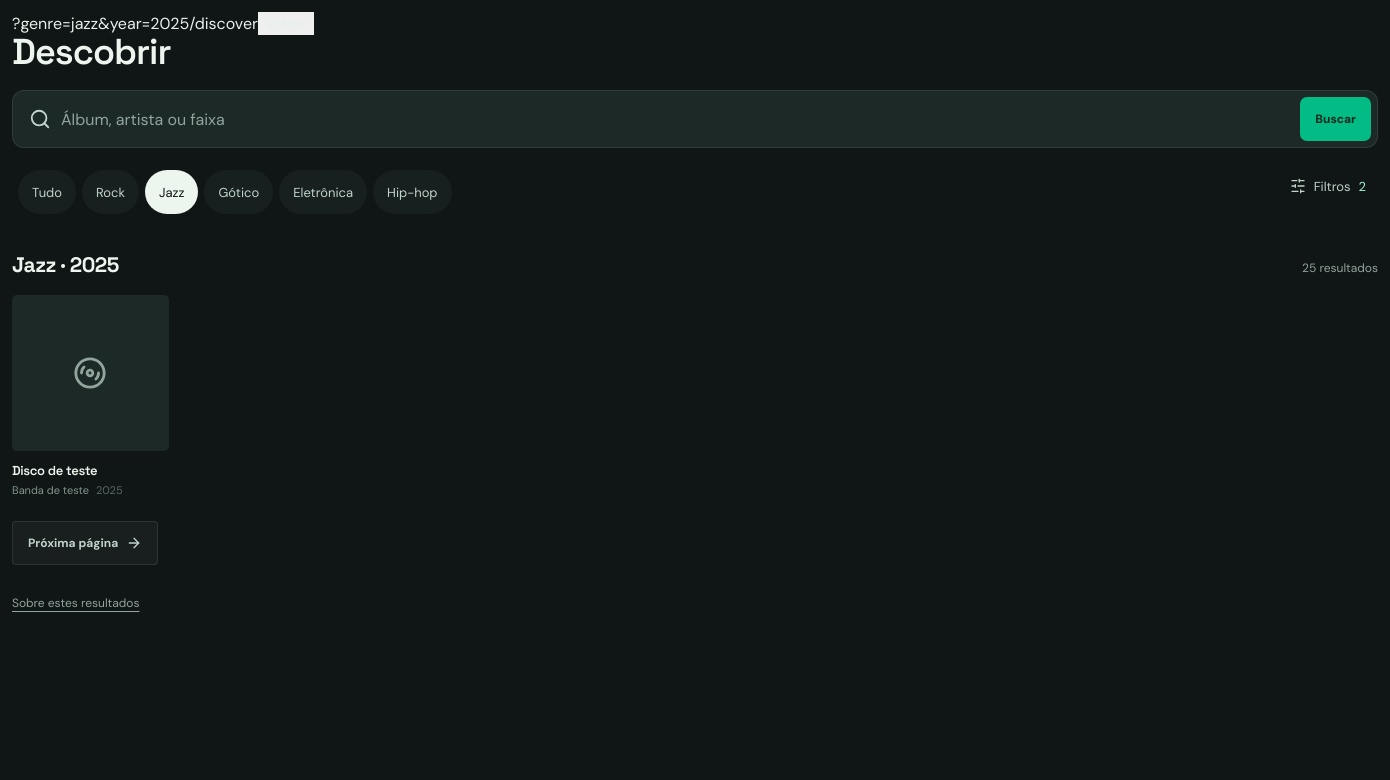
Test: DiscoverPage › searches and switches result types without leaving Discover, then returns to exploration
Expected: the heading "Disco de teste" is shown, 12,462 -> 97,479
In the search field: (676, 119) 59,97 -> 1292,141, type "the cure"
Then press Enter
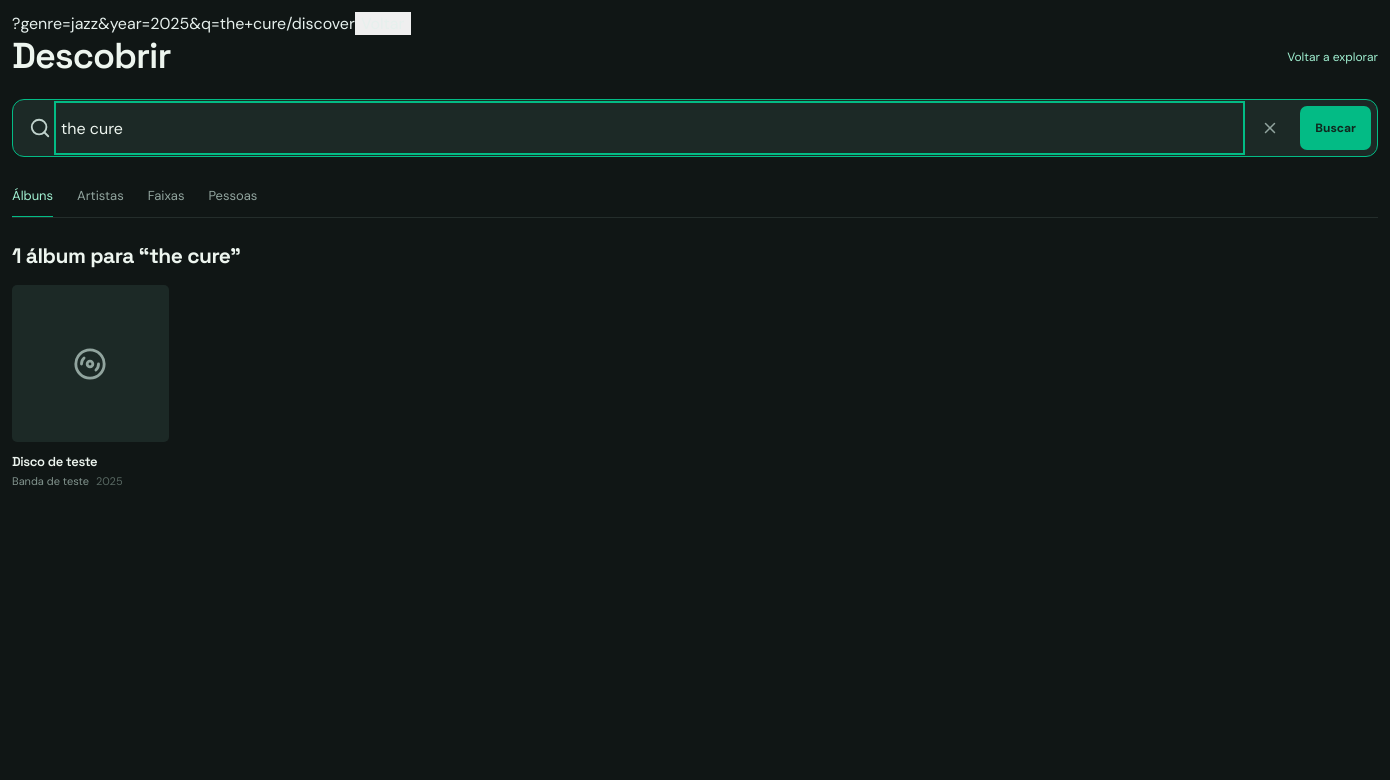
Expected: the text named "Endereço" shows "q=the+cure", 12,13 -> 286,34
Click the tab "Artistas": (100, 195) 77,173 -> 124,217
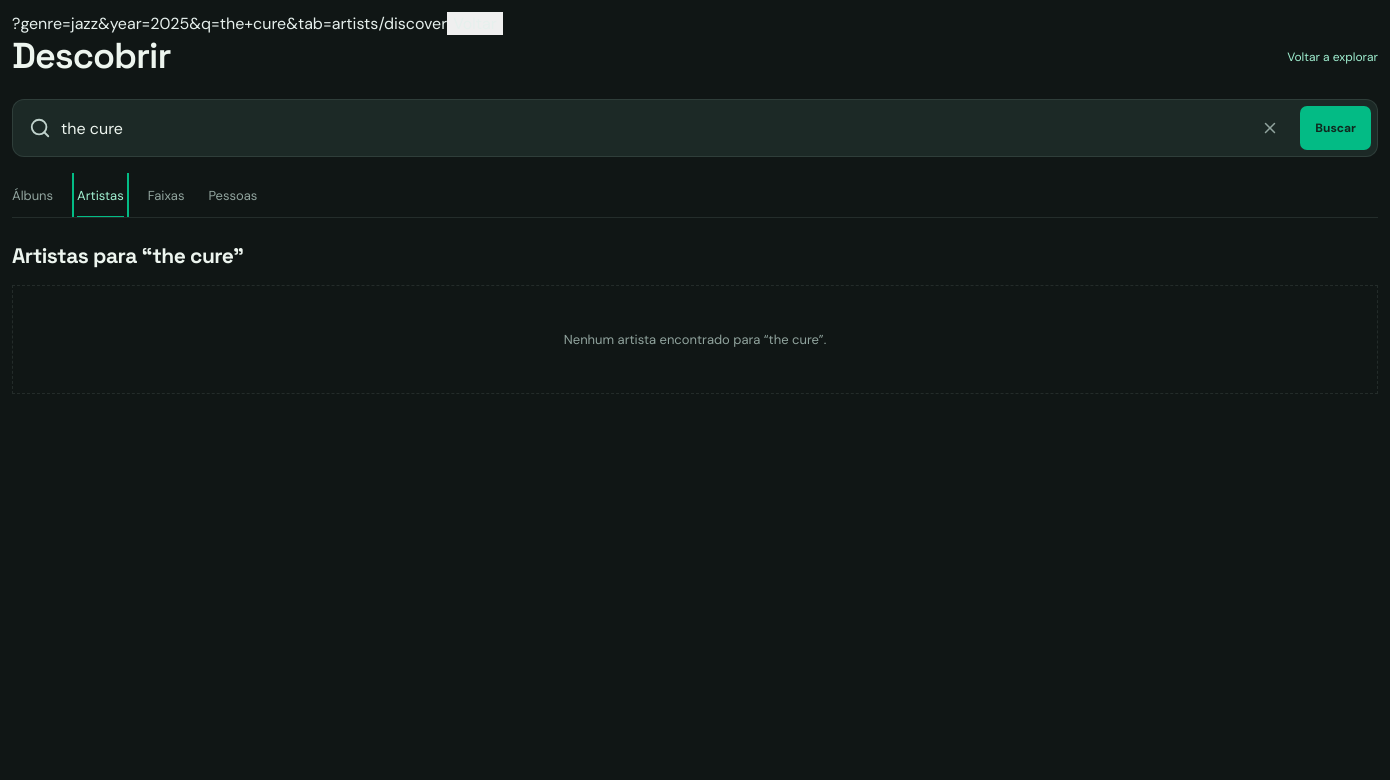
Expected: the text named "Endereço" shows "tab=artists", 12,13 -> 378,34
Click the button named "Limpar busca": (1270, 128) 1248,106 -> 1292,150
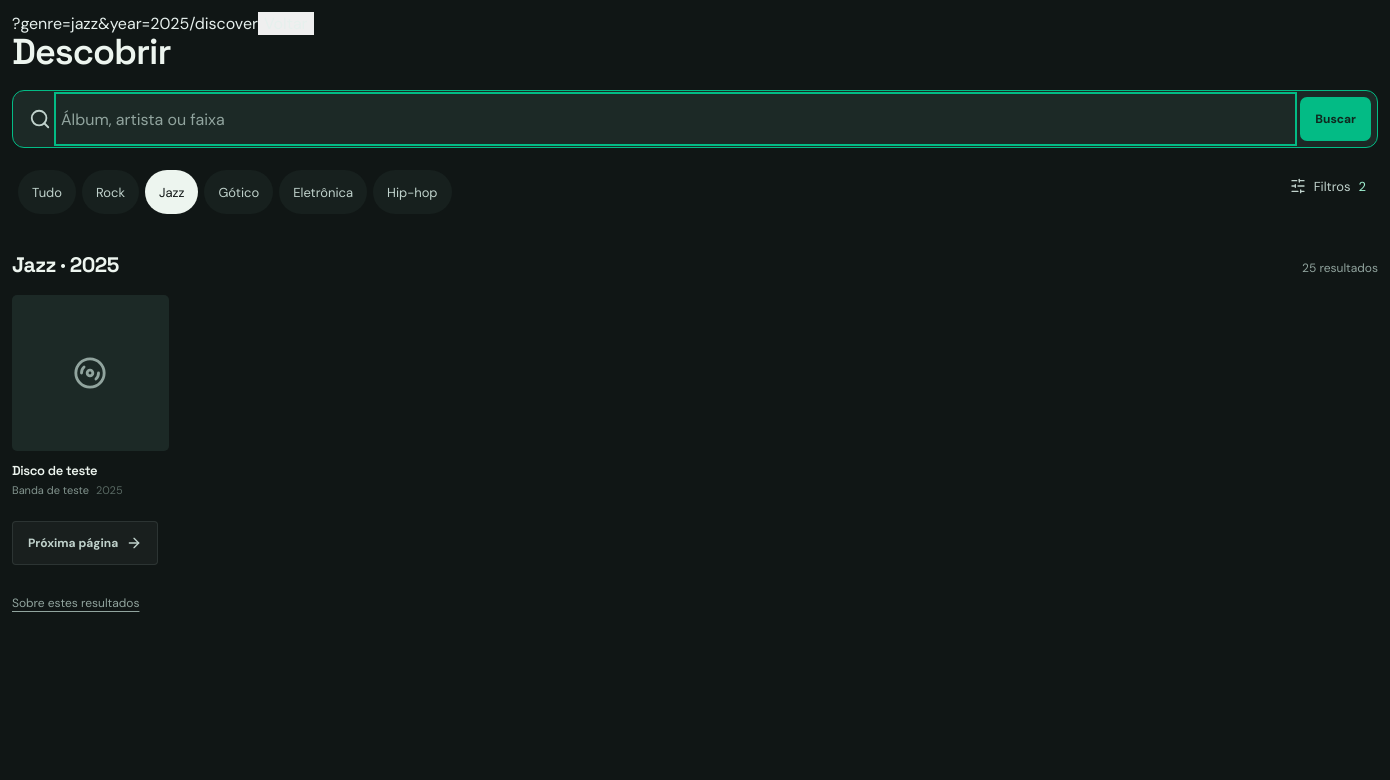
Expected: the text named "Endereço" shows "genre=jazz", 12,13 -> 189,34
Expected: the heading "Disco de teste" is shown, 12,462 -> 97,479
Expected: the text labelled "Endereço" no longer shows "q="
